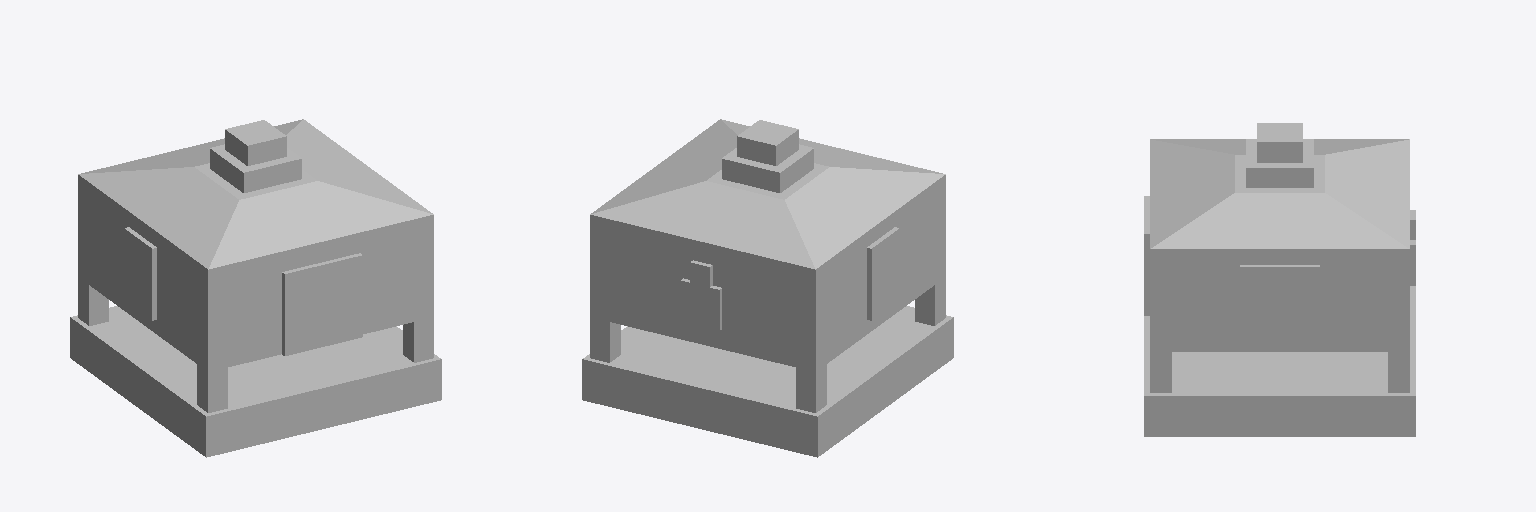
Rendered from crystalyzer.obj.
The picture shows the model from 3 angles: view 1: azimuth 30°, elevation 25°; view 2: azimuth 150°, elevation 25°; view 3: azimuth 270°, elevation 25°; orthographic projection.
Visible parts, largest first — view 1: Cube_Cube.005; view 2: Cube_Cube.005; view 3: Cube_Cube.005.
Boxes of the visible parts, <box> form: Cube_Cube.005: <box>70,119,441,457</box>; Cube_Cube.005: <box>582,119,953,457</box>; Cube_Cube.005: <box>1144,123,1415,436</box>.
Bounding box in the file's own units: 3 × 3 × 3.